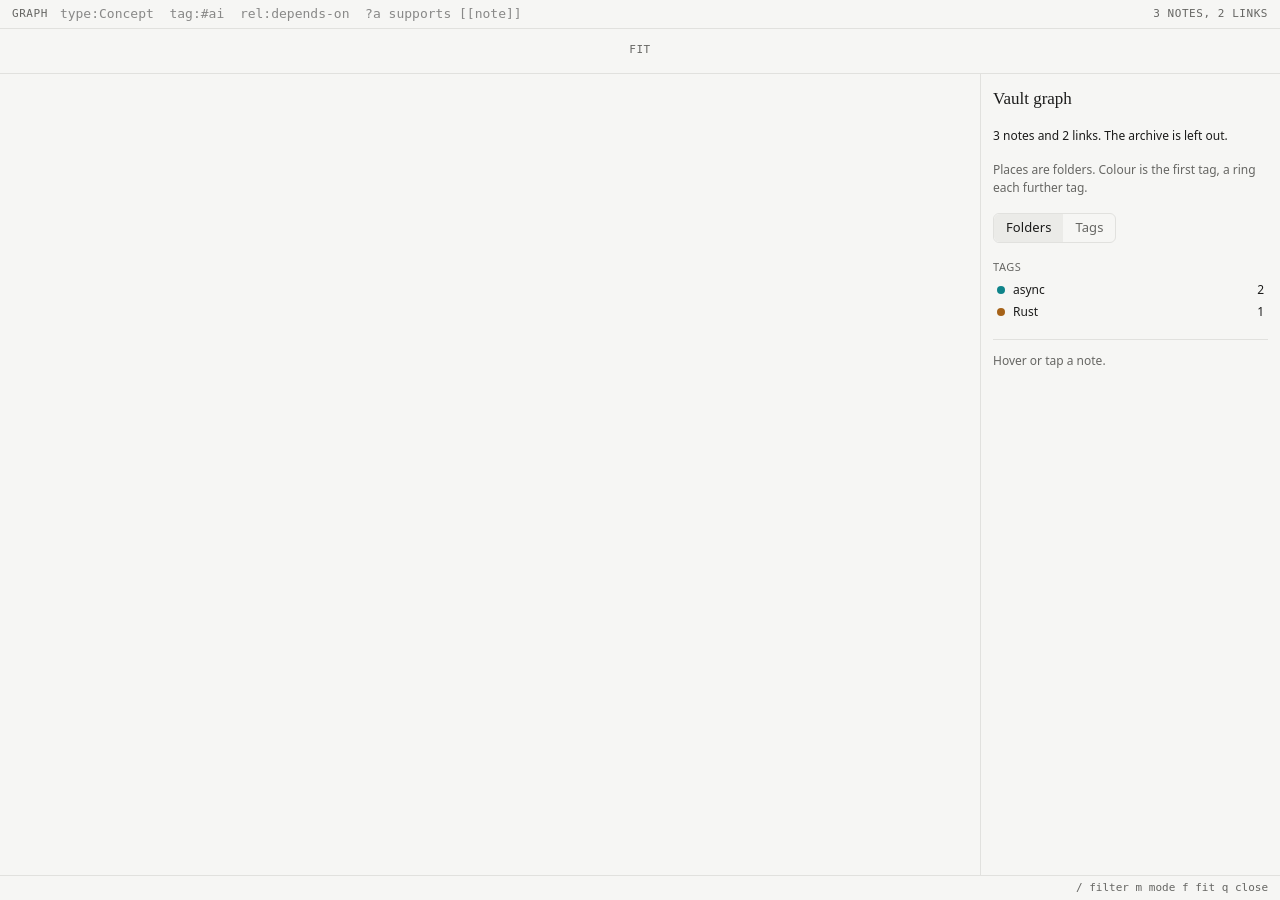
Scenario: GraphPane side panel › I3 a typed filter's answer sets the counts and the tag list
Replace the text in the field named "graph query" with "type:Concept". click: (601, 14)
box: [60,4,1141,24]
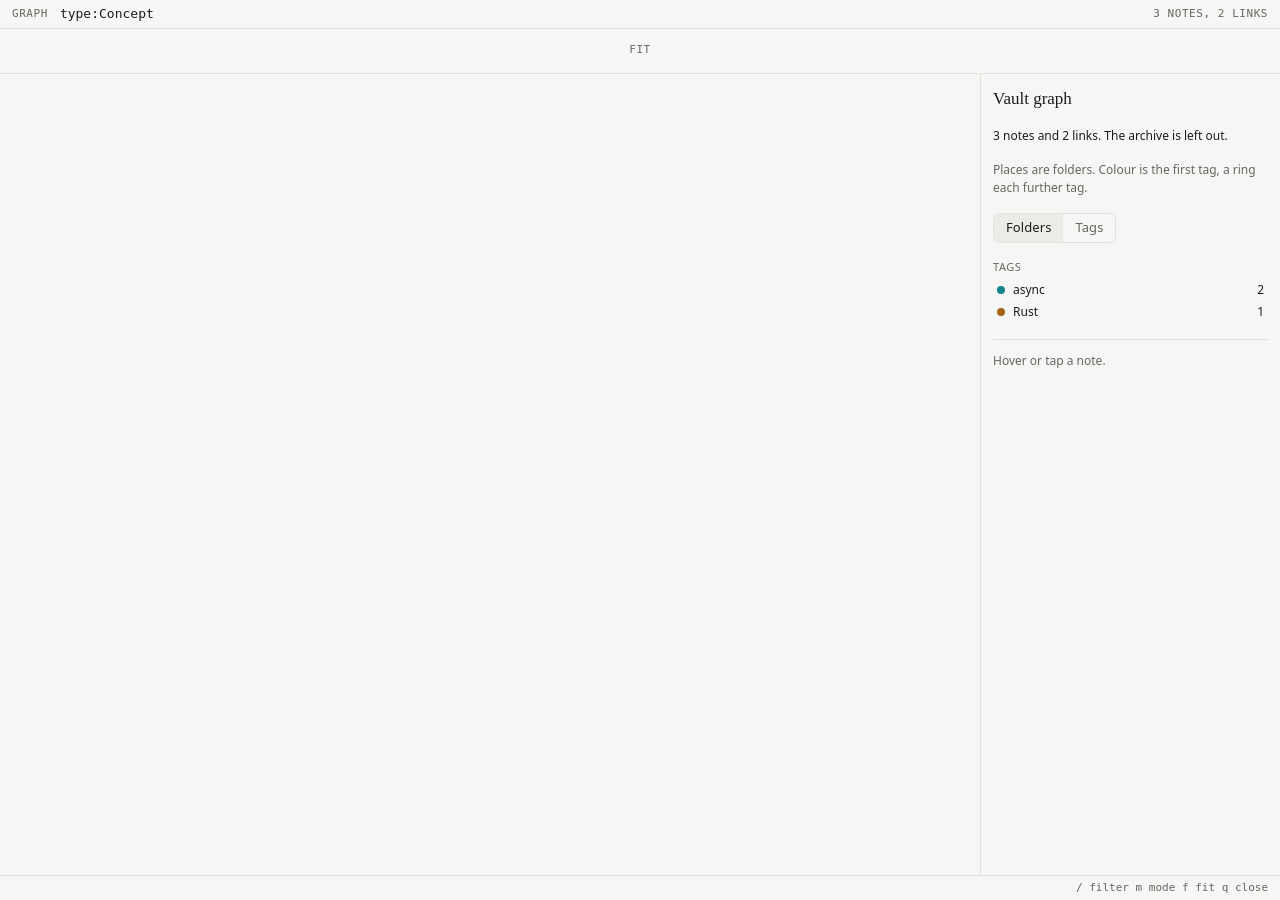
Press Enter in the field named "graph query", box [60,4,1141,24]
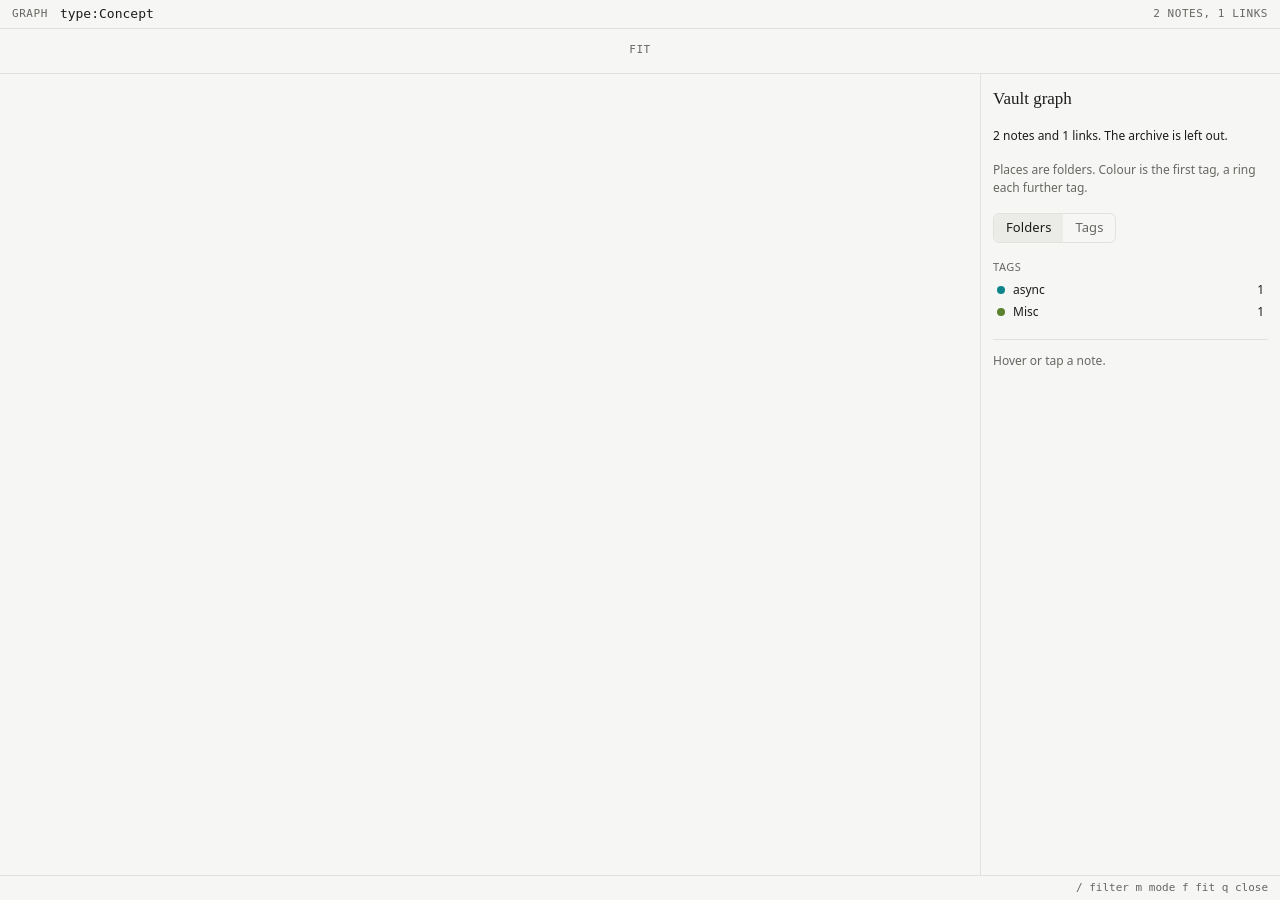
Result: the text "2 notes and 1 links. The archive is left out." is shown at [993,127,1268,145]
Result: the button "async 1" is shown at [993,279,1268,301]
Result: the button "Misc 1" is shown at [993,301,1268,323]
